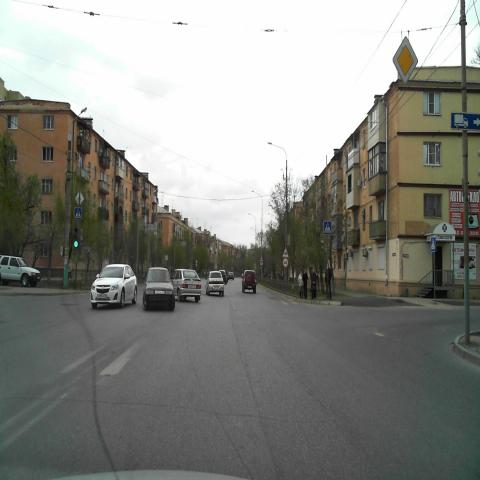6_15_2: (452, 111, 480, 131)
